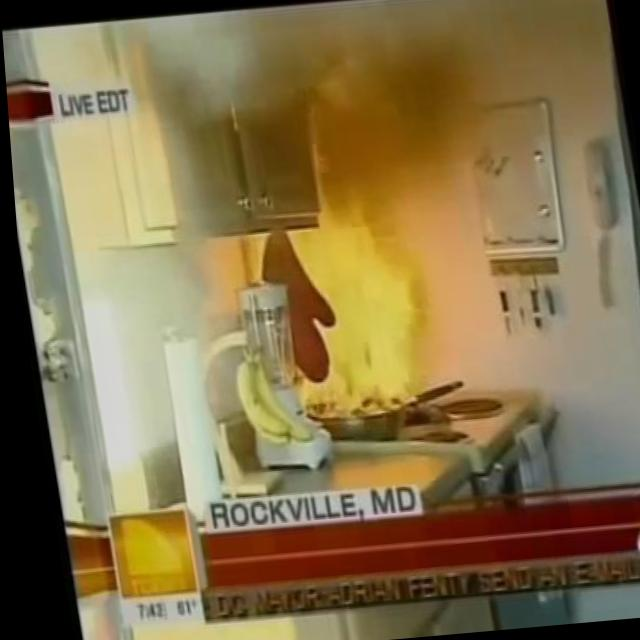fire: (286, 218, 434, 423)
